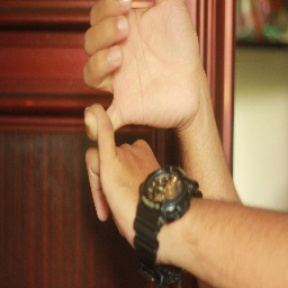S: (71, 1, 219, 241)
